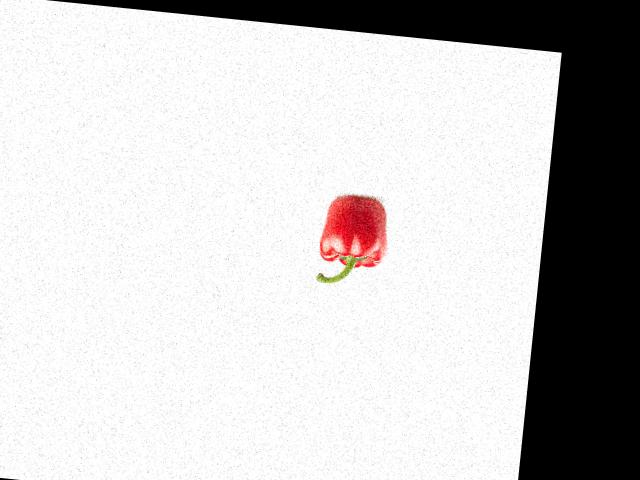bell_pepper: (313, 192, 390, 289)
